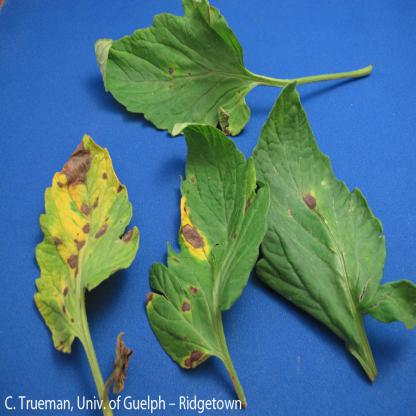Tomato Early blight leaf: (253, 80, 409, 399), (145, 122, 265, 382), (71, 2, 267, 144), (30, 128, 136, 373)
